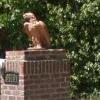Statue: (13, 4, 63, 56)
